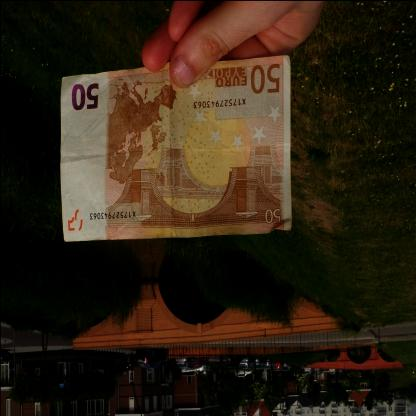euro_banknote: (60, 64, 295, 240)
